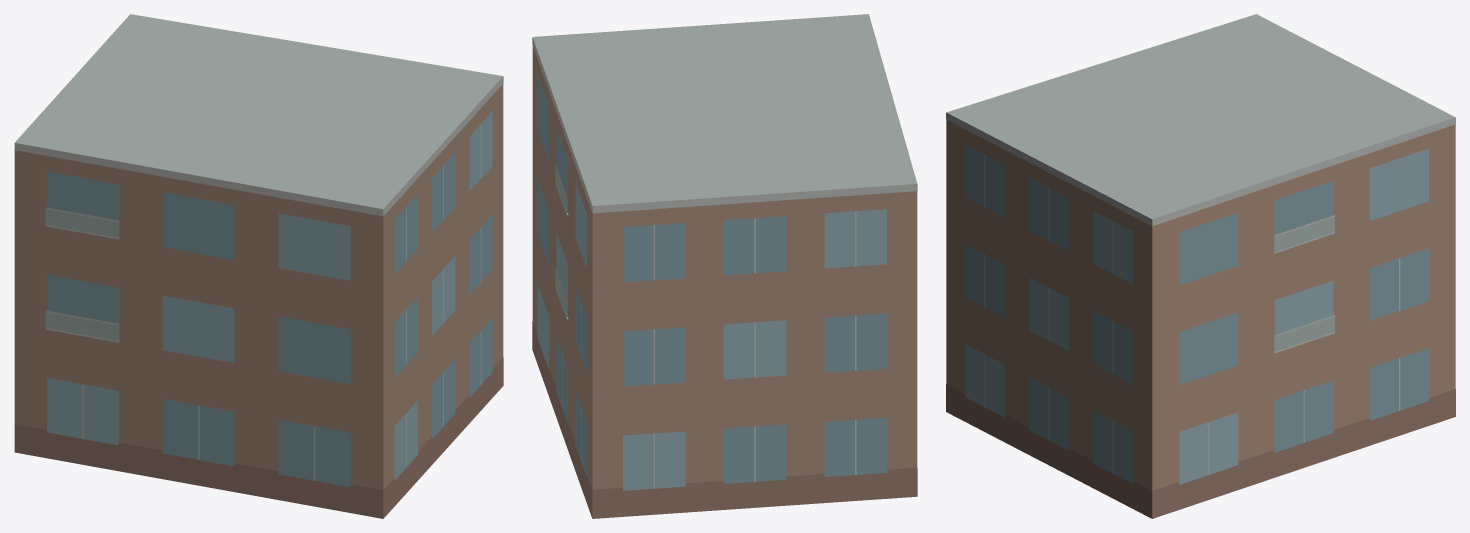
The model's file is survey-upis-32641897.glb.
3 renders of one model, left to right at view 1: azimuth 30°, elevation 25°; view 2: azimuth 150°, elevation 25°; view 3: azimuth 270°, elevation 25°, orthographic. The views are drawn at different scales.
Parts seen in each view (by area): view 1: survey-upis-32641897.tmp; view 2: survey-upis-32641897.tmp; view 3: survey-upis-32641897.tmp.
Part boxes in pixels (x1,y1,x2,y2): survey-upis-32641897.tmp: [14, 14, 503, 518]; survey-upis-32641897.tmp: [532, 14, 917, 518]; survey-upis-32641897.tmp: [946, 14, 1455, 518].
Size of the model in its own units: 15.45 by 10.5 by 16.2.
